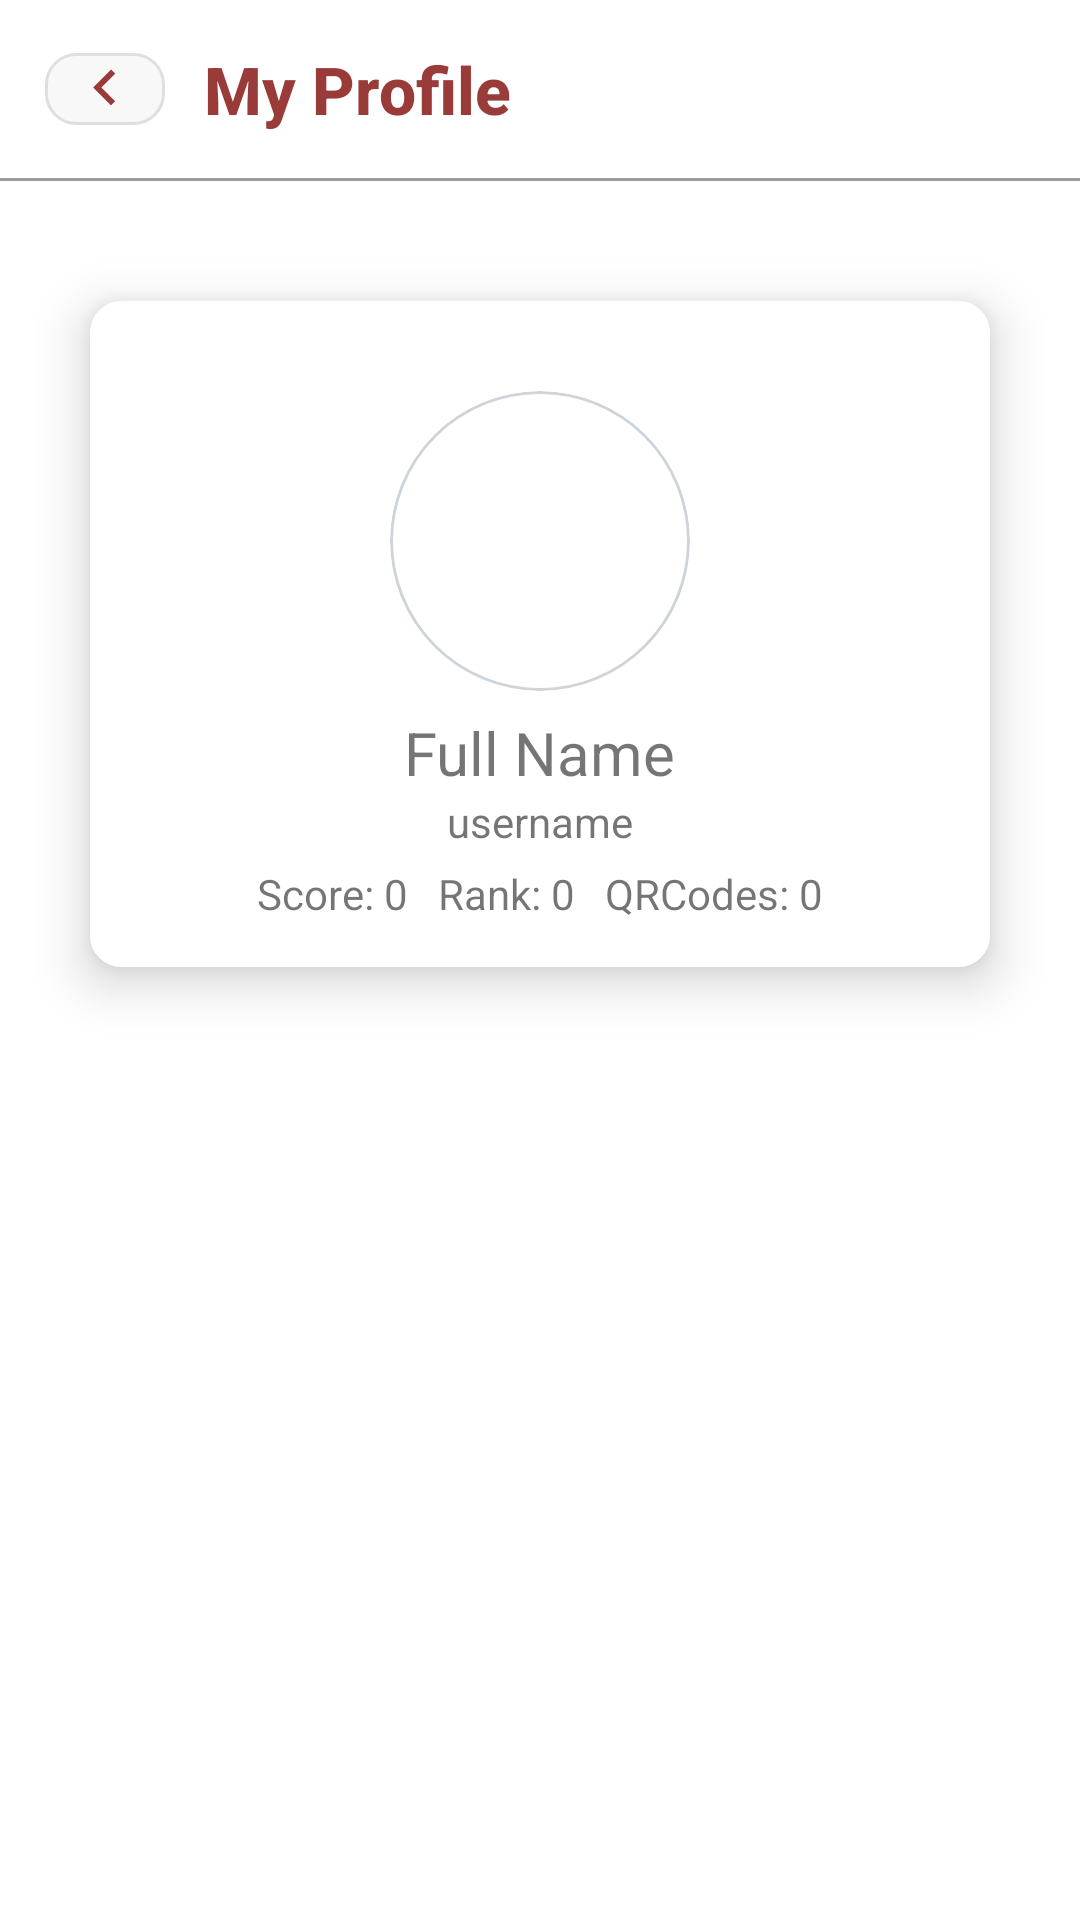

Icon click points for this 1080 x 1920 phone screenshot, format [x,y]:
back: [105,89]
